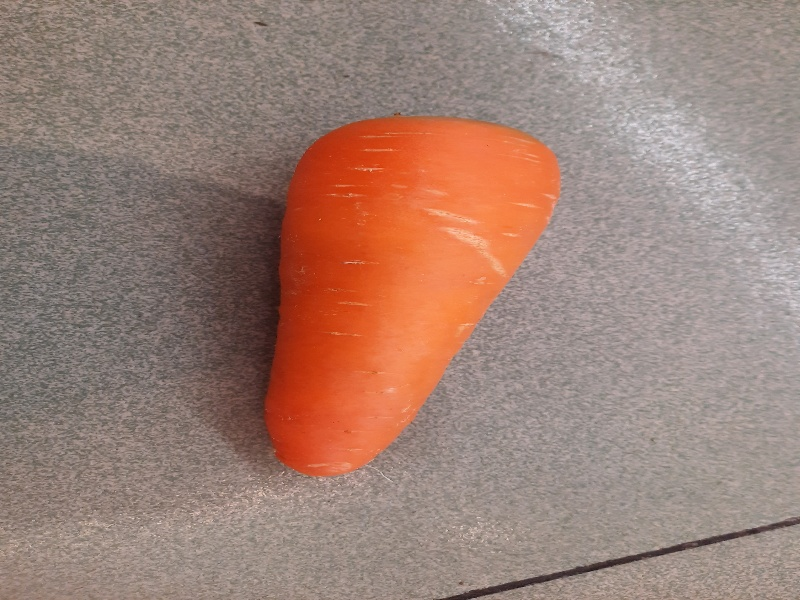vege: (264, 114, 564, 489)
